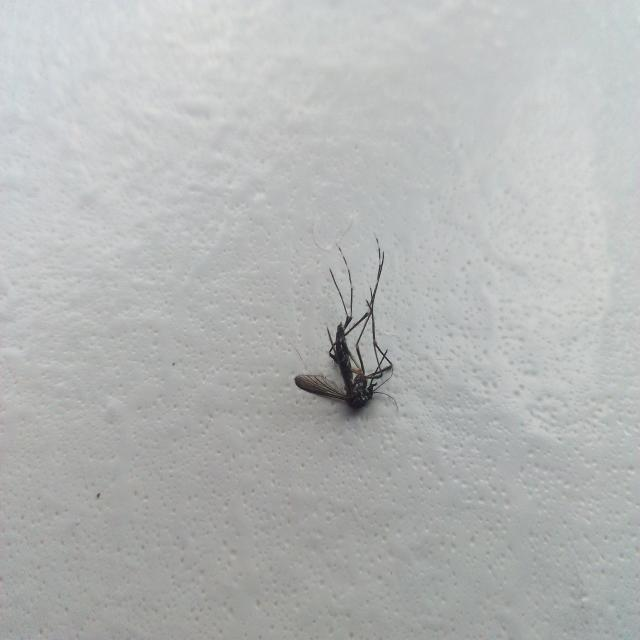albopictus: (293, 228, 397, 414)
